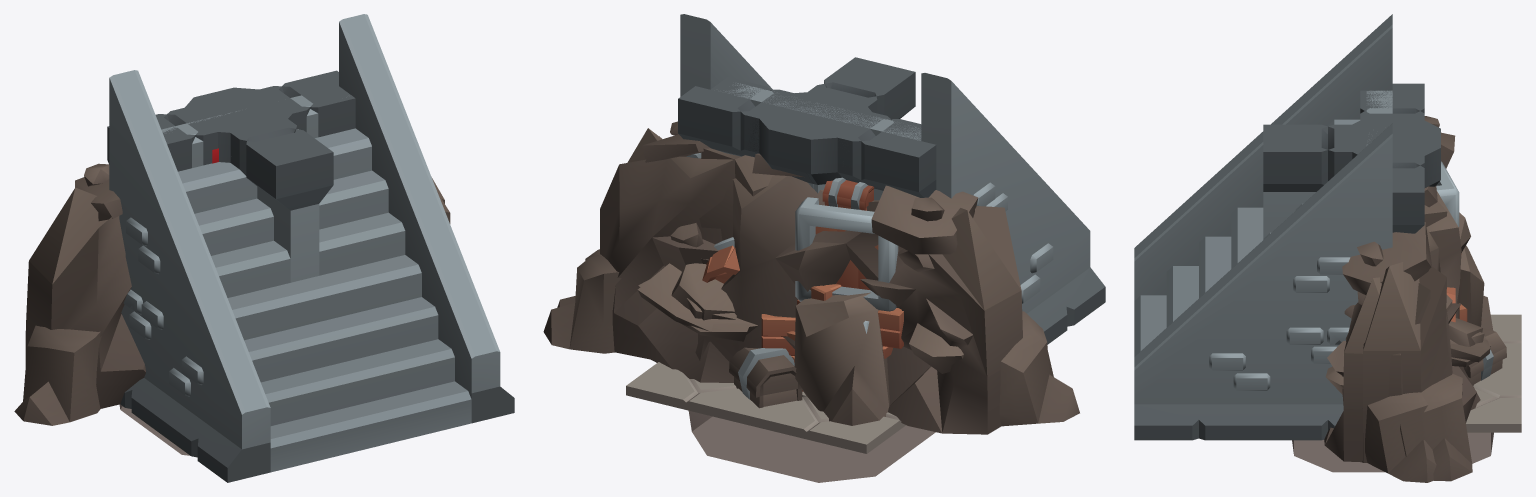
The model's file is dungeon.glb.
3 views of the same model, side by side, from view 1: azimuth 30°, elevation 25°; view 2: azimuth 150°, elevation 25°; view 3: azimuth 270°, elevation 25° (orthographic). The views are drawn at different scales.
Parts seen in each view (by area): view 1: stairs, rubble_large, wall_corner, wall, wall_arched, wall_pillar; view 2: rubble_large, rubble_half, stairs, wall, box_stacked, floor_tile_large, floor_tile_big_grate, wall_pillar, wall_corner, wall_arched, keg_decorated, crates_stacked; view 3: stairs, rubble_half, rubble_large, wall_corner, wall, floor_tile_large, floor_tile_big_grate, box_stacked, wall_arched, wall_pillar.
Boxes of the visible parts, <box> form: stairs: <box>109,14,514,482</box>; rubble_large: <box>14,163,450,425</box>; wall_corner: <box>172,102,333,282</box>; wall: <box>107,70,353,171</box>; wall_arched: <box>107,71,355,161</box>; wall_pillar: <box>185,86,292,162</box>; rubble_large: <box>557,136,1079,434</box>; rubble_half: <box>543,121,772,382</box>; stairs: <box>680,14,1105,344</box>; wall: <box>678,77,936,200</box>; box_stacked: <box>729,177,898,408</box>; floor_tile_large: <box>626,362,905,453</box>; floor_tile_big_grate: <box>688,411,935,482</box>; wall_pillar: <box>711,90,883,199</box>; wall_corner: <box>795,57,915,199</box>; wall_arched: <box>691,87,936,199</box>; keg_decorated: <box>702,237,903,358</box>; crates_stacked: <box>761,284,841,391</box>; stairs: <box>1134,14,1392,440</box>; rubble_half: <box>1342,202,1490,481</box>; rubble_large: <box>1324,116,1493,482</box>; wall_corner: <box>1263,113,1424,238</box>; wall: <box>1360,83,1424,233</box>; floor_tile_large: <box>1466,314,1521,432</box>; floor_tile_big_grate: <box>1292,432,1493,472</box>; box_stacked: <box>1436,161,1506,385</box>; wall_arched: <box>1360,83,1424,233</box>; wall_pillar: <box>1344,121,1440,187</box>.
Bounding box in the file's own units: 8.13 × 6.1 × 6.
Materials: 1 (1 with a texture image).
